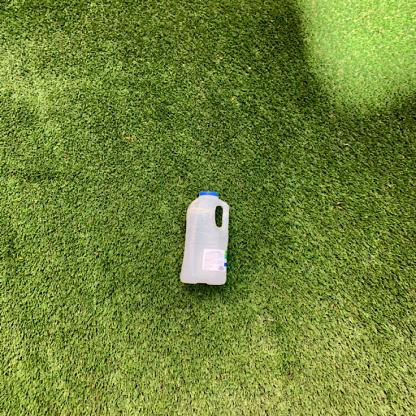trash: (176, 190, 232, 286)
